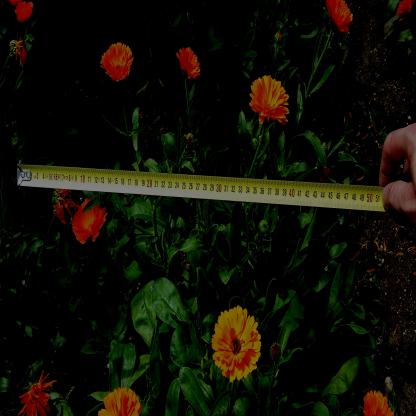marigold: (214, 309, 259, 379), (250, 78, 286, 123), (73, 198, 105, 240), (102, 43, 132, 81), (177, 45, 199, 79)
